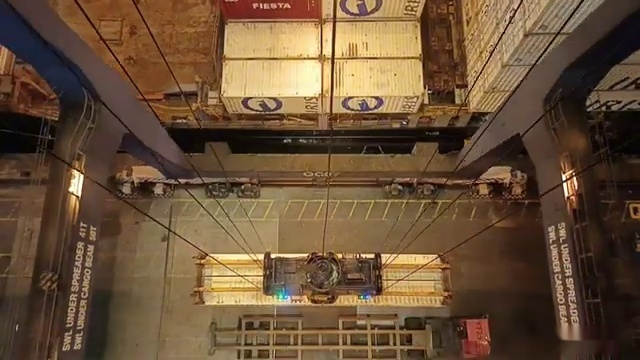container: (186, 244, 467, 309), (211, 59, 435, 113), (218, 18, 426, 61), (213, 0, 439, 25), (206, 0, 434, 23), (214, 0, 430, 19), (213, 0, 437, 13), (210, 0, 441, 10)
guide_mark: (101, 202, 543, 222), (62, 354, 562, 360)
spreader: (180, 245, 465, 312)
target_slot: (185, 304, 449, 360)
